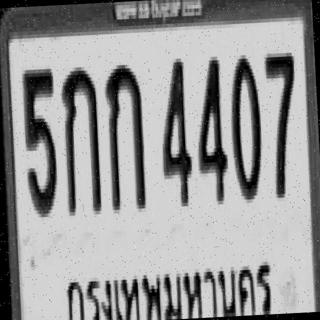A01: (103, 61, 147, 214), (60, 63, 102, 216)
N00: (228, 51, 264, 200)
N04: (192, 53, 230, 205), (156, 55, 194, 207)
N05: (21, 66, 60, 218)
N07: (264, 49, 300, 198)
P04: (64, 255, 276, 320)
